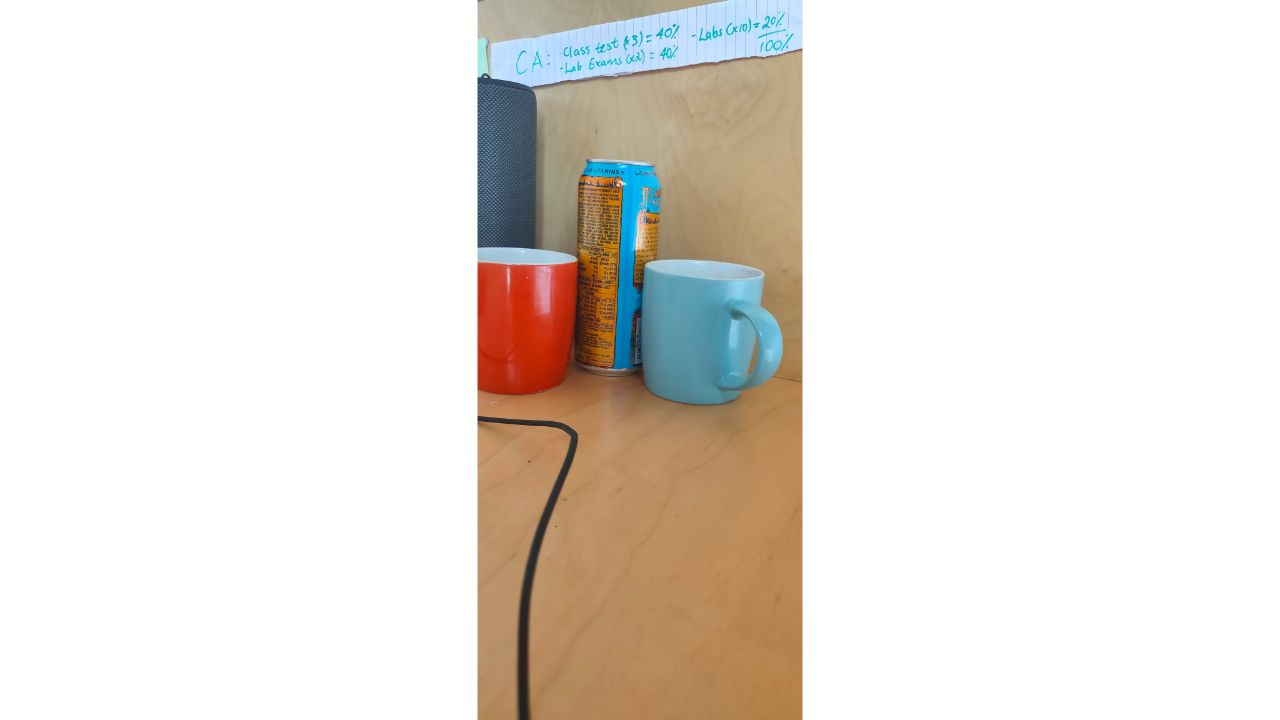Can: (574, 155, 662, 372)
